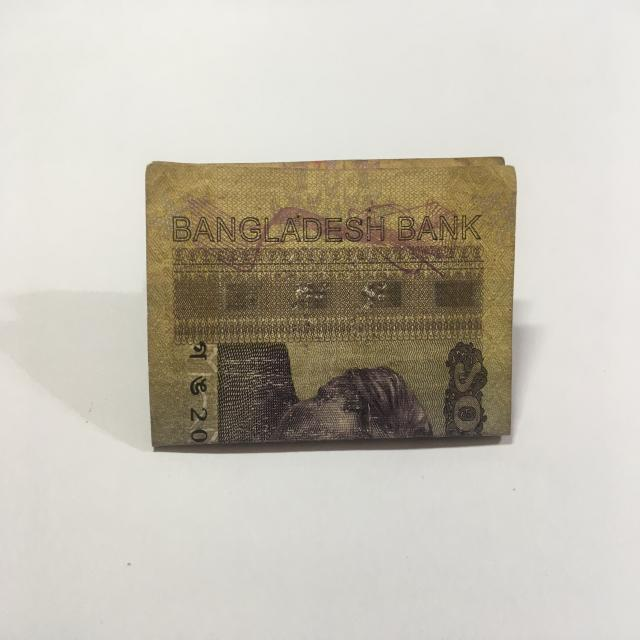Taka: (139, 143, 518, 459)
